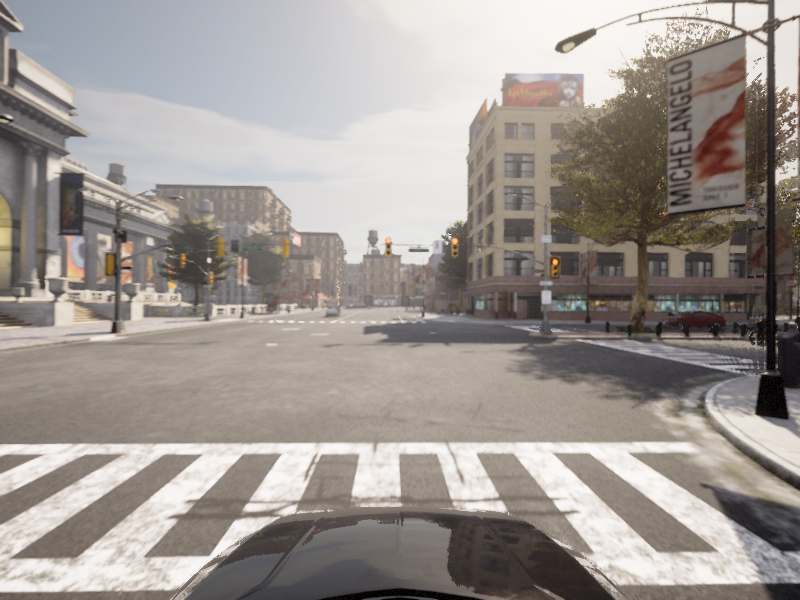vehicle: (744, 311, 788, 345), (655, 310, 730, 329)
